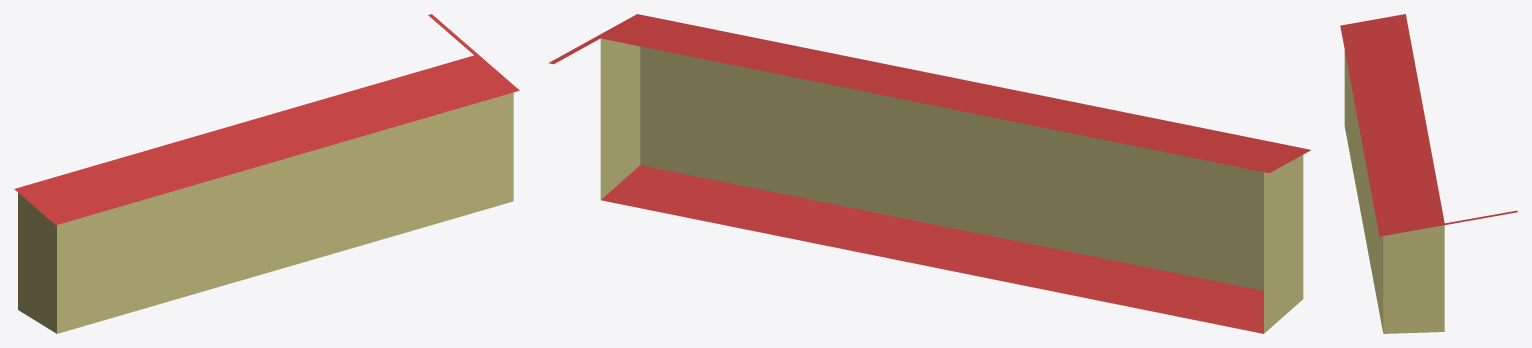
The picture shows the model from 3 angles, left to right: view 1: azimuth 30°, elevation 25°; view 2: azimuth 150°, elevation 25°; view 3: azimuth 270°, elevation 25°; orthographic projection. The views are drawn at different scales.
Size of the model in its own units: 30.54 by 10.74 by 7.94.
